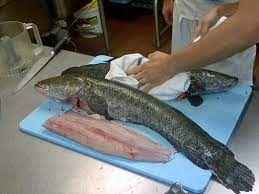Snakehead: (32, 68, 257, 194)
